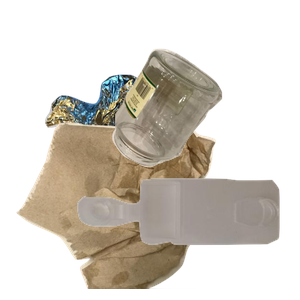glass: (110, 46, 300, 205)
metal: (42, 72, 239, 229)
plastic: (75, 176, 300, 300)
trash: (14, 120, 222, 300)
